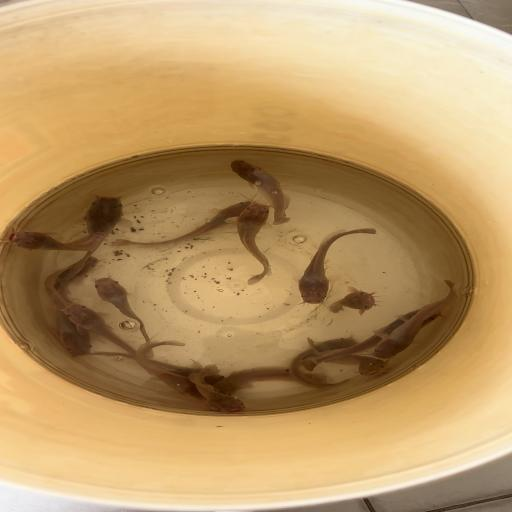lele: (300, 308, 444, 371), (110, 198, 256, 250), (370, 280, 457, 358), (296, 227, 377, 306), (44, 257, 108, 355), (92, 275, 161, 357), (62, 196, 124, 282), (90, 349, 223, 385), (134, 340, 212, 398), (57, 301, 139, 355), (229, 160, 292, 226), (212, 365, 328, 397), (289, 336, 358, 389), (304, 338, 390, 377), (236, 200, 274, 286), (186, 362, 246, 414), (6, 229, 108, 251), (52, 254, 104, 290), (326, 288, 380, 315)
